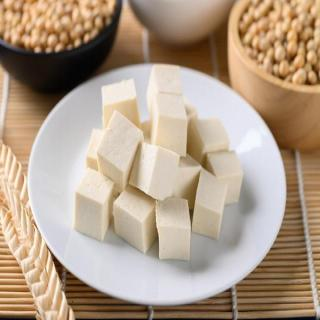Tahu: (73, 72, 247, 250)
